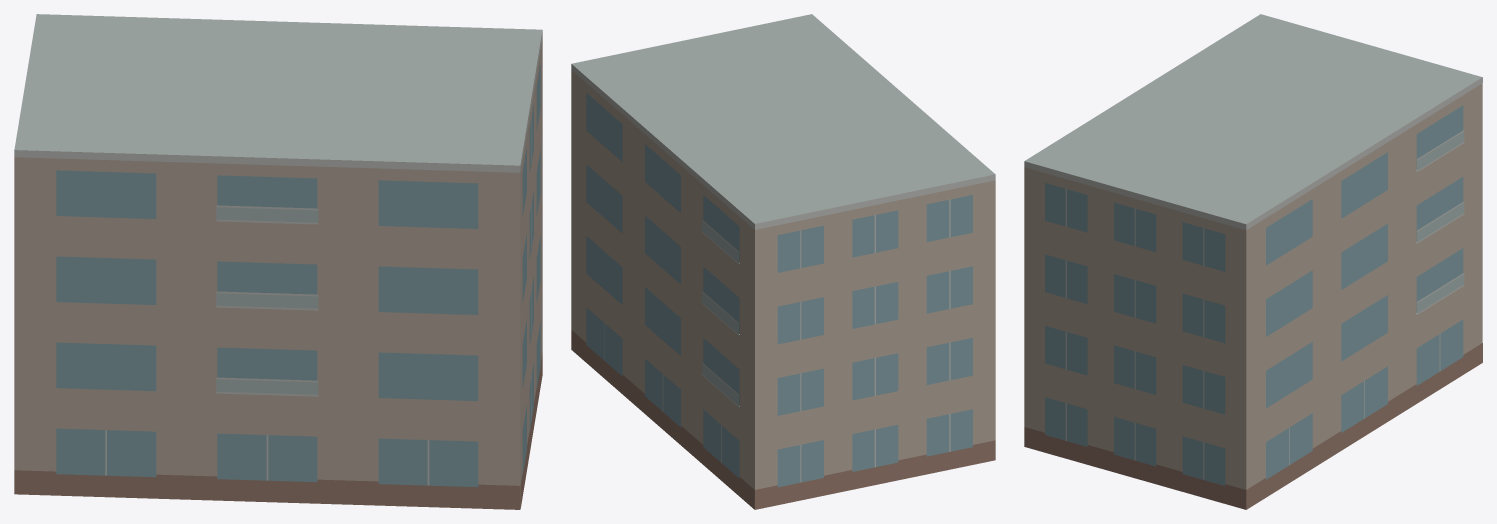
The model's file is survey-upis-32718900.glb.
3 renders of one model, left to right at view 1: azimuth 30°, elevation 25°; view 2: azimuth 150°, elevation 25°; view 3: azimuth 270°, elevation 25°, orthographic. The views are drawn at different scales.
Parts seen in each view (by area): view 1: survey-upis-32718900.tmp; view 2: survey-upis-32718900.tmp; view 3: survey-upis-32718900.tmp.
Part boxes in pixels (x1=…): survey-upis-32718900.tmp: x1=14, y1=14, x2=542, y2=509; survey-upis-32718900.tmp: x1=571, y1=14, x2=995, y2=509; survey-upis-32718900.tmp: x1=1024, y1=14, x2=1482, y2=509.
Size of the model in its own units: 18.49 by 11.7 by 17.03.
